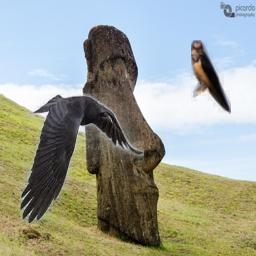Crow: (20, 93, 144, 223)
Swallow: (191, 40, 231, 114)
